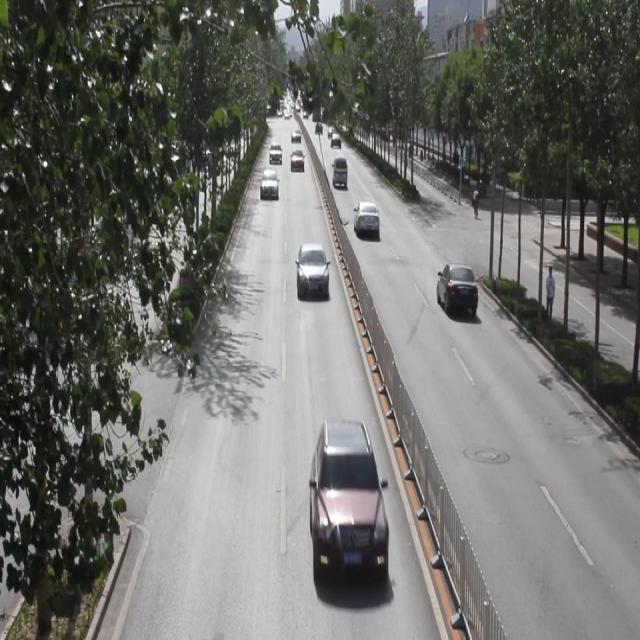car: (308, 418, 389, 570), (436, 261, 477, 315), (294, 240, 328, 298), (352, 199, 379, 235), (260, 166, 278, 198), (289, 147, 304, 171), (269, 139, 282, 162), (330, 130, 341, 148), (290, 125, 300, 142)
truck: (331, 154, 348, 186)
